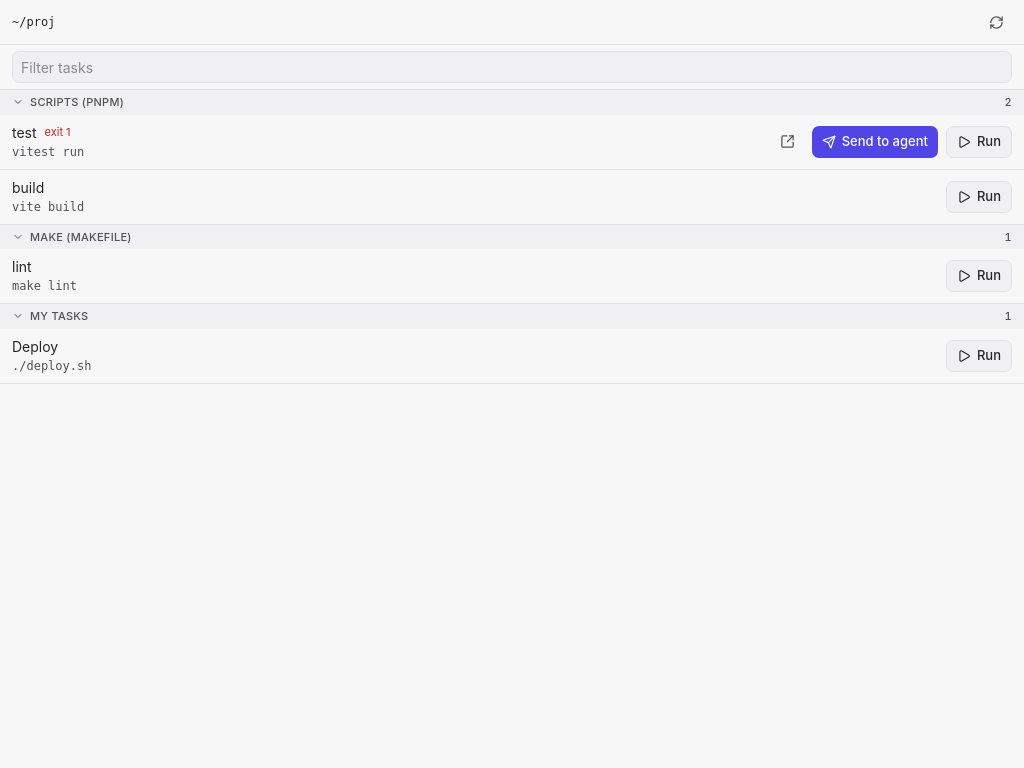
Test: TasksView Send to agent › asks again when the remembered pane is no longer an agent pane
expect the element with test id "tasks-view" is shown: met, box [0,0,1023,384]
Click the button with aria-label "Send the output of test to an agent" at [875, 142], box [812,126,938,158]
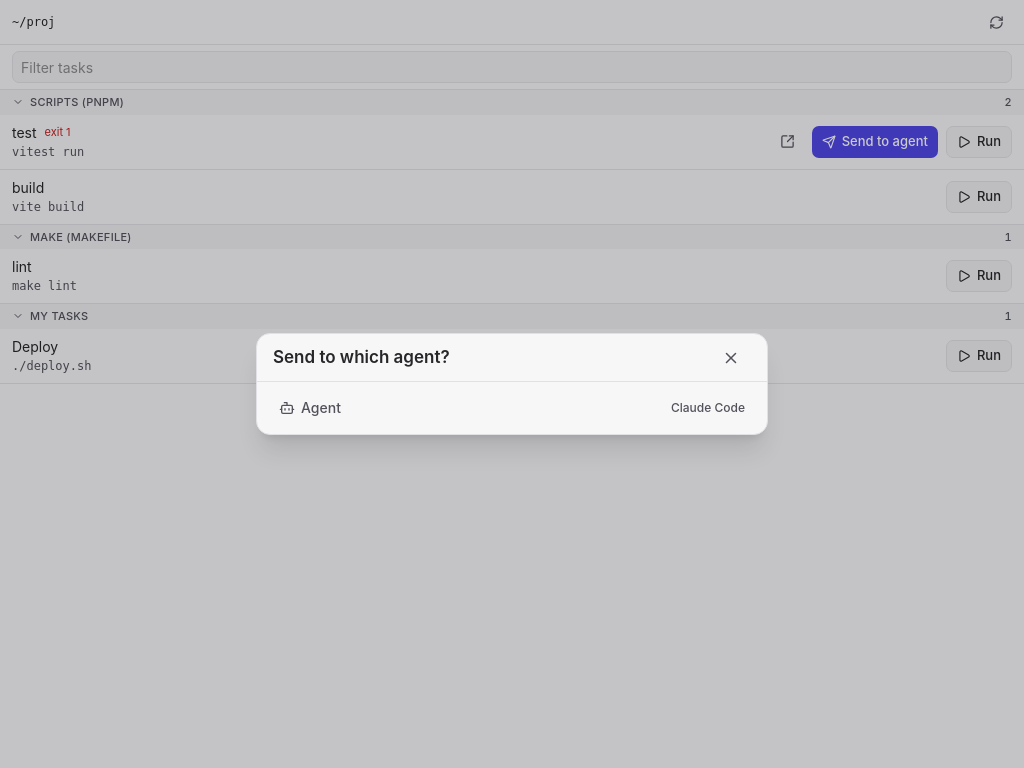
expect the heading "Send to which agent?" is shown: met, box [273,345,450,370]
